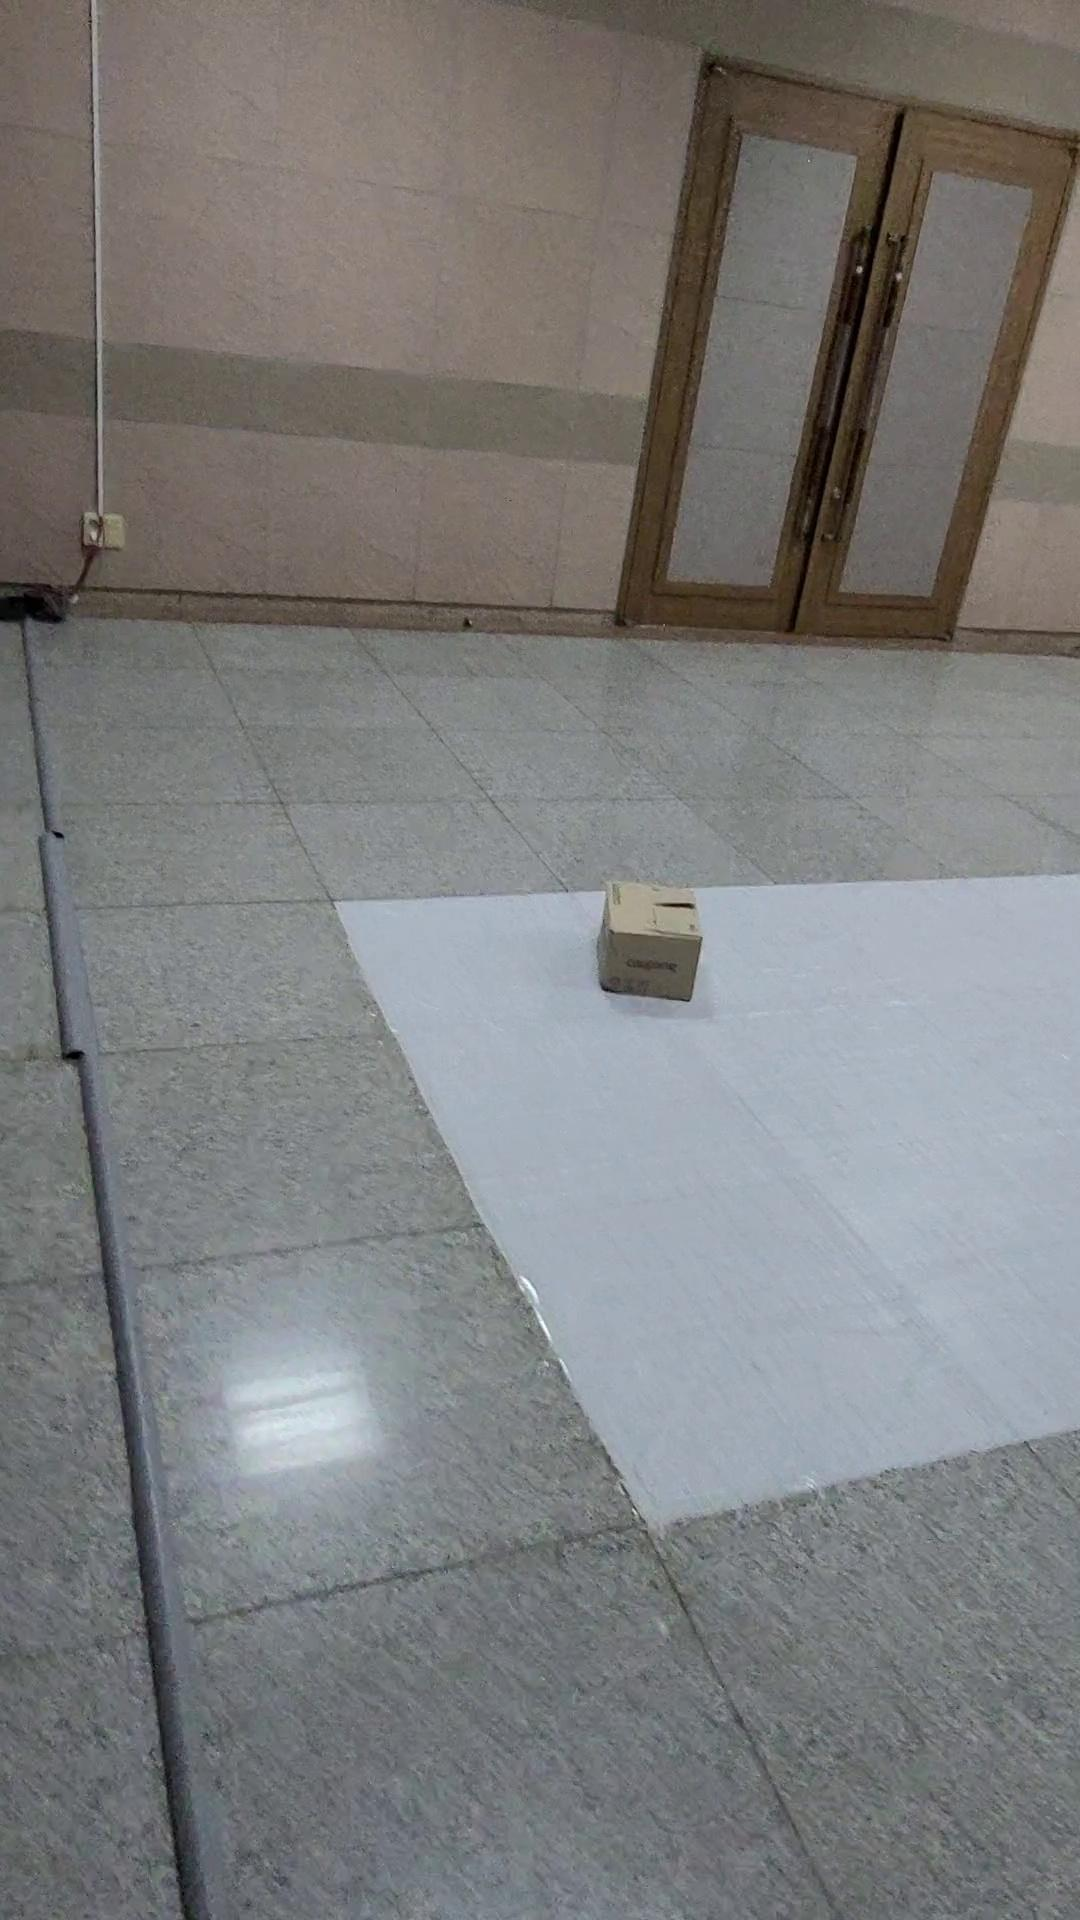Box: (556, 843, 723, 1029)
